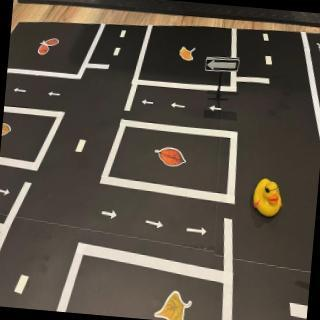duck_specialty: (250, 174, 286, 222)
road_oneway: (145, 218, 167, 233), (101, 207, 120, 223), (187, 226, 210, 239), (171, 101, 188, 112), (141, 98, 157, 109), (210, 103, 224, 114), (1, 186, 12, 199), (14, 87, 28, 97), (48, 90, 63, 99)
sign_oneway_left: (205, 57, 240, 75)
